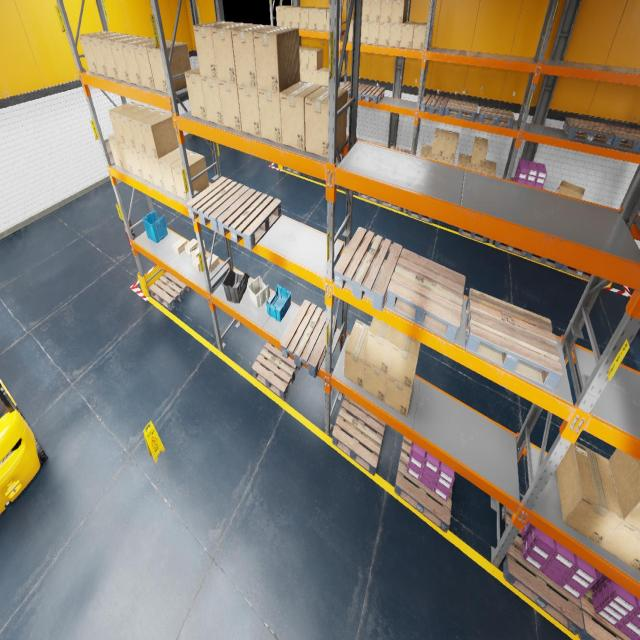box: (556, 441, 623, 546), (600, 460, 640, 572), (253, 26, 300, 93), (305, 85, 347, 158), (280, 81, 322, 151), (231, 24, 276, 88), (211, 22, 255, 84), (609, 448, 640, 530), (193, 21, 235, 79), (147, 42, 191, 93), (384, 356, 418, 417), (388, 330, 420, 390), (139, 111, 179, 159), (134, 40, 172, 90), (171, 152, 209, 202), (109, 36, 147, 82), (366, 317, 396, 375), (344, 320, 369, 388), (158, 147, 192, 195), (88, 32, 125, 76), (99, 34, 135, 79), (121, 37, 154, 86), (128, 108, 162, 153), (79, 31, 114, 74), (118, 105, 151, 149), (108, 101, 141, 145), (258, 88, 282, 144), (237, 84, 261, 138), (218, 80, 242, 131), (185, 67, 207, 120), (200, 76, 223, 126), (363, 362, 388, 402), (147, 154, 165, 190), (116, 141, 134, 174), (137, 150, 154, 184), (126, 146, 144, 178), (108, 134, 124, 169), (470, 136, 488, 166), (556, 180, 584, 199), (442, 130, 458, 160), (400, 21, 417, 49), (432, 128, 448, 156), (412, 22, 427, 50), (391, 0, 408, 23), (326, 9, 342, 31), (308, 48, 323, 71), (389, 23, 402, 48), (308, 7, 322, 30), (378, 22, 391, 46), (300, 47, 314, 69), (191, 240, 206, 260), (284, 6, 298, 27), (276, 5, 290, 26), (300, 7, 313, 29), (292, 6, 305, 28), (317, 8, 329, 31), (380, 0, 392, 23), (369, 0, 381, 22), (192, 255, 208, 271), (368, 22, 379, 44), (482, 159, 496, 176), (185, 238, 198, 256), (173, 238, 187, 254), (469, 156, 483, 172), (457, 153, 471, 169), (207, 254, 219, 272), (317, 68, 328, 86), (442, 152, 455, 165), (420, 144, 432, 158), (362, 0, 370, 21), (361, 21, 368, 44), (300, 46, 306, 68), (348, 18, 353, 42), (300, 68, 308, 82), (308, 70, 316, 83), (431, 154, 442, 162), (326, 70, 328, 86), (300, 68, 301, 81)
forklift: (0, 378, 48, 514)
pallets: (502, 505, 584, 635), (465, 288, 563, 392), (386, 248, 466, 343), (334, 227, 402, 311), (394, 436, 453, 532), (280, 300, 337, 377), (332, 395, 386, 476), (217, 188, 281, 250), (186, 176, 248, 232), (252, 342, 300, 400), (578, 588, 631, 640), (149, 272, 192, 310), (562, 117, 614, 146), (606, 124, 640, 152), (478, 106, 514, 129), (445, 98, 478, 122), (526, 252, 562, 270), (420, 94, 449, 116), (358, 85, 385, 104), (495, 241, 527, 257), (560, 264, 590, 280), (458, 228, 488, 243), (339, 82, 365, 98), (510, 177, 543, 189), (408, 210, 432, 223), (379, 200, 402, 211), (358, 193, 379, 203), (366, 140, 388, 147), (284, 166, 301, 175), (346, 135, 366, 142), (390, 146, 410, 153)
